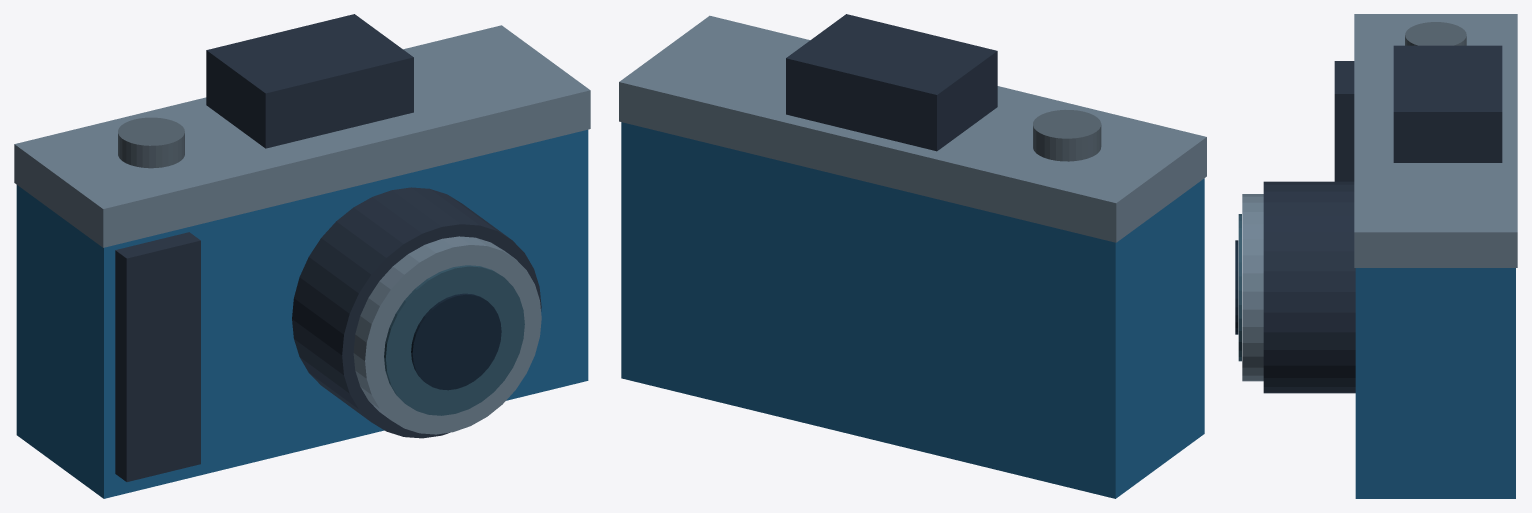
File: camera.glb
3 views of the same model, side by side, from view 1: azimuth 30°, elevation 25°; view 2: azimuth 150°, elevation 25°; view 3: azimuth 270°, elevation 25° (orthographic). The views are drawn at different scales.
Visible parts, largest first — view 1: body, silver top, viewfinder, grip, lens barrel, lens ring, lens face, inner glass, shutter; view 2: body, silver top, viewfinder, shutter; view 3: body, silver top, lens barrel, viewfinder, lens ring, grip, shutter, lens face, inner glass.
Part boxes in pixels (left/top/right/bottom): body: left=16, top=129, right=588, bottom=498; silver top: left=14, top=25, right=590, bottom=247; viewfinder: left=206, top=14, right=413, bottom=148; grip: left=115, top=232, right=200, bottom=481; lens barrel: left=292, top=187, right=541, bottom=438; lens ring: left=353, top=236, right=541, bottom=434; lens face: left=384, top=265, right=524, bottom=415; inner glass: left=411, top=293, right=501, bottom=390; shutter: left=118, top=117, right=184, bottom=168; body: left=621, top=122, right=1204, bottom=498; silver top: left=619, top=15, right=1206, bottom=242; viewfinder: left=786, top=14, right=997, bottom=151; shutter: left=1033, top=109, right=1101, bottom=161; body: left=1355, top=268, right=1515, bottom=498; silver top: left=1354, top=14, right=1517, bottom=267; lens barrel: left=1263, top=181, right=1355, bottom=393; viewfinder: left=1393, top=45, right=1502, bottom=162; lens ring: left=1242, top=194, right=1263, bottom=381; grip: left=1334, top=61, right=1354, bottom=181; shutter: left=1405, top=22, right=1466, bottom=45; lens face: left=1238, top=214, right=1241, bottom=361; inner glass: left=1235, top=240, right=1238, bottom=334.
Size of the model in its own units: 1.71 by 1.16 by 0.933.
